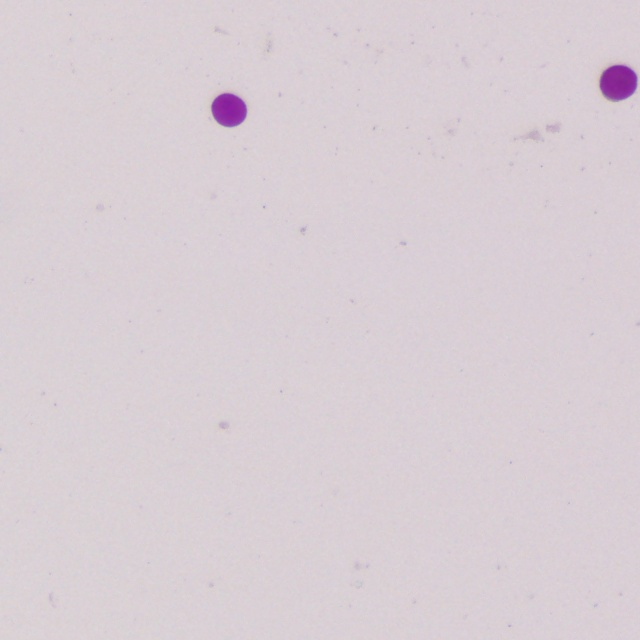viable: (601, 66, 636, 100), (212, 94, 246, 126)
